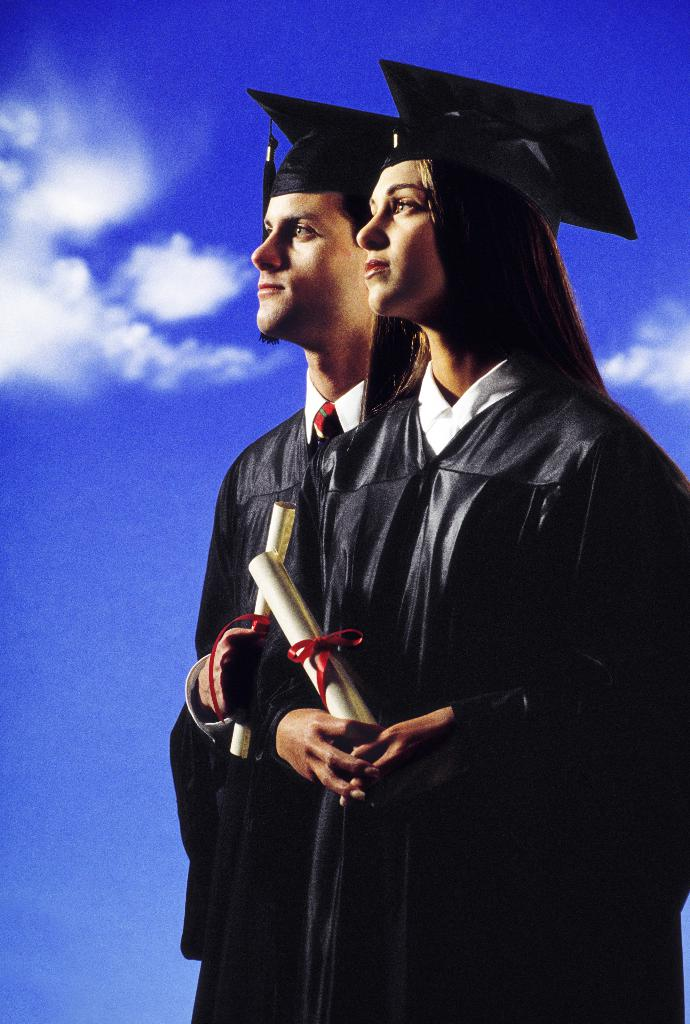Person: (253, 59, 689, 1023)
